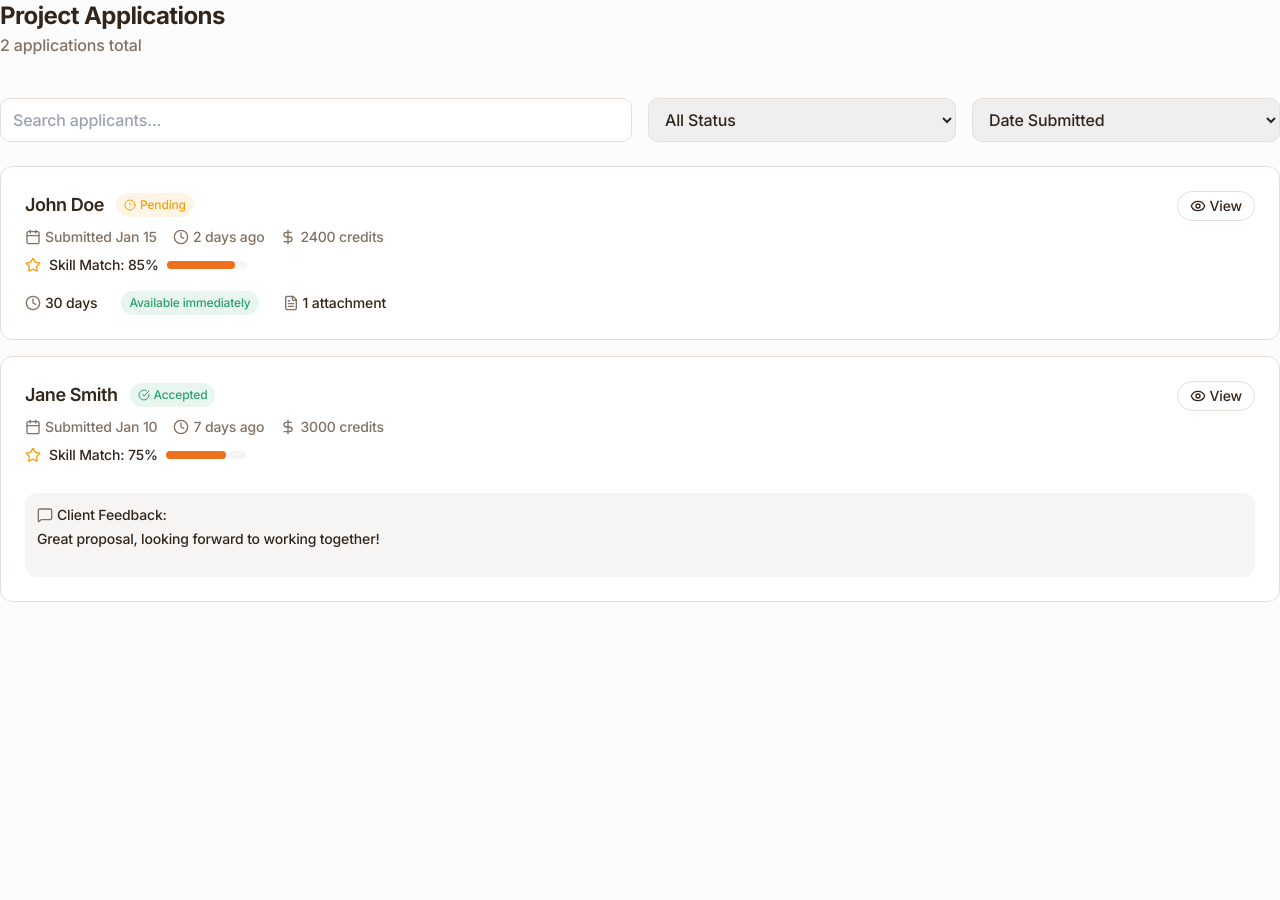
ApplicationsView › Application Actions › opens application details when View is clicked
Click the button "View" in the row of "Pending" at (1216, 206), box [1177,191,1255,221]
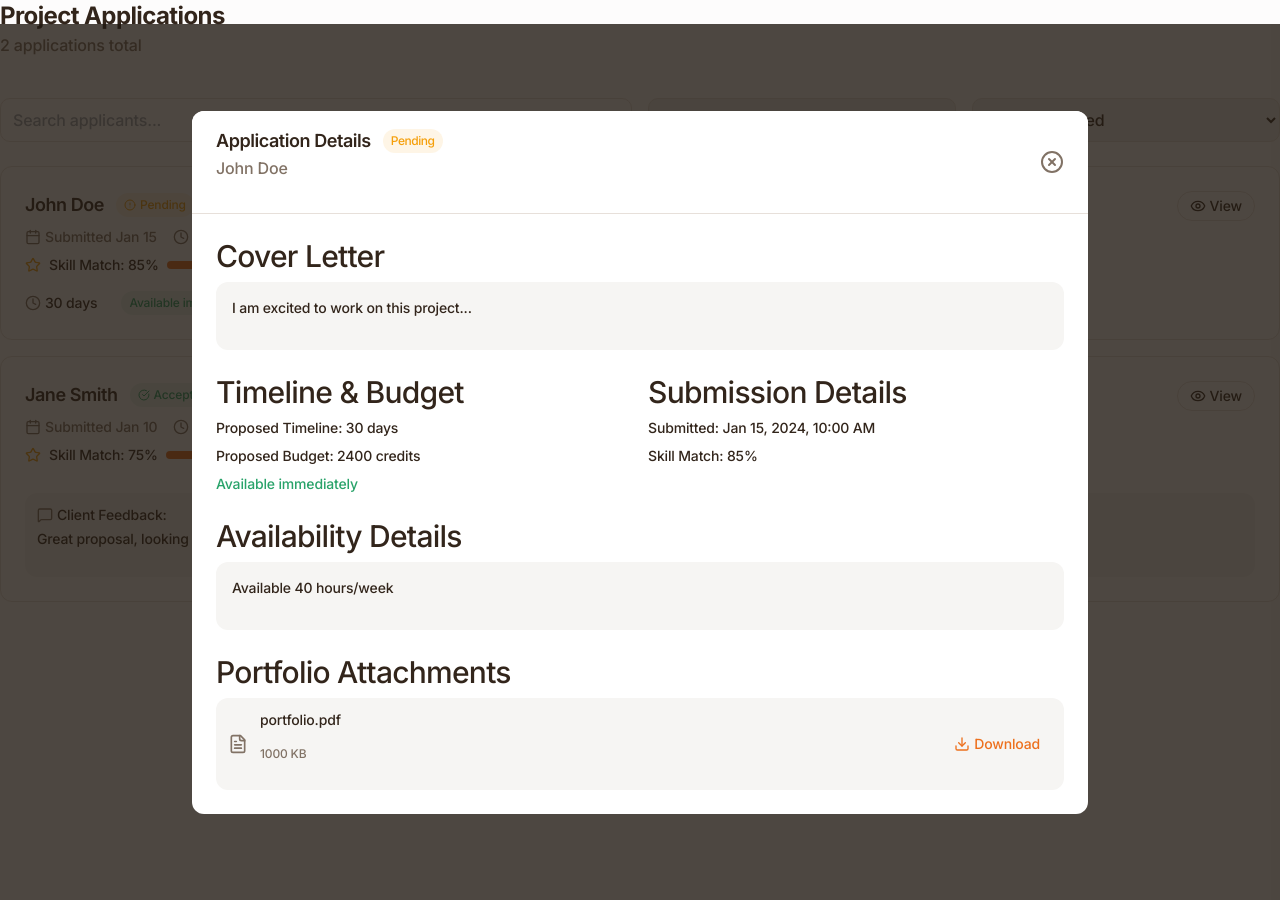
Expected: the heading "Application Details Pending" is shown, [216,126,443,154]
Expected: the text "I am excited to work on this project..." is shown, [232,298,472,316]
